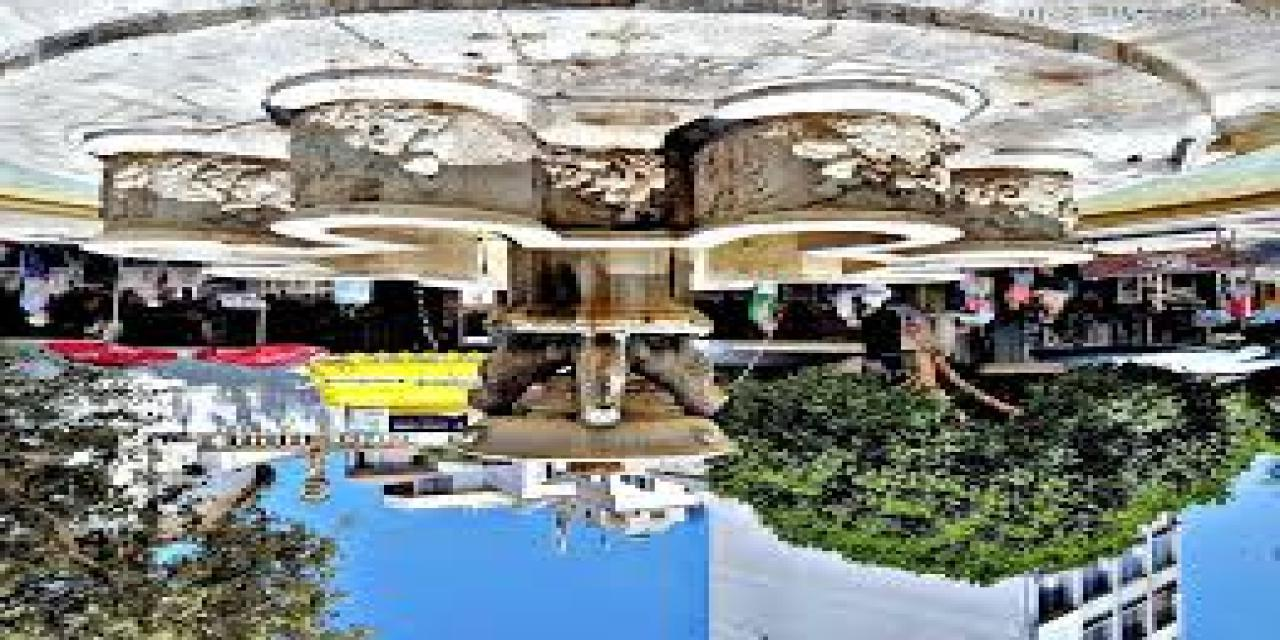Liontaria: (76, 74, 1084, 475)
